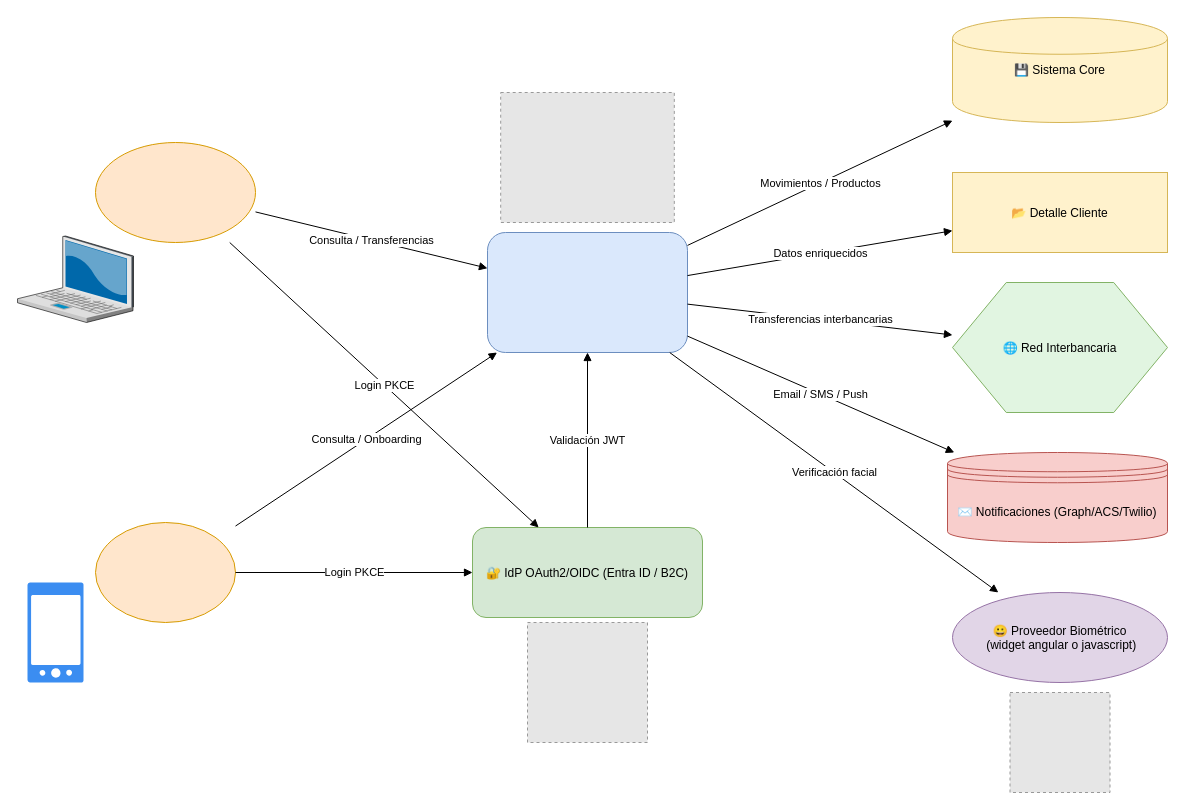
The diagram is 1185 pixels wide and 810 high, and some of its shapes have lost their labels. Grey dashed boxes stand in for pictures. The centre of each missing label's shape, as x and y in pixels:
"🏦 BP Online Banking" belongs at point 587,292.
"👩‍💻 Usuario Web (SPA)" belongs at point 175,192.
"📱 Usuario Móvil (App)" belongs at point 165,572.
